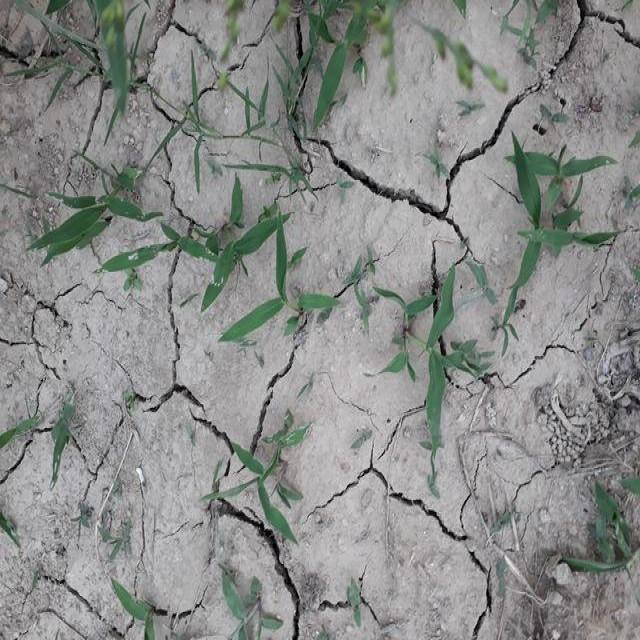weed: (150, 214, 337, 336), (512, 128, 614, 313), (382, 287, 474, 418), (292, 0, 370, 128), (221, 439, 300, 546), (36, 196, 146, 258), (95, 2, 133, 126), (210, 567, 272, 639), (0, 420, 95, 460)
